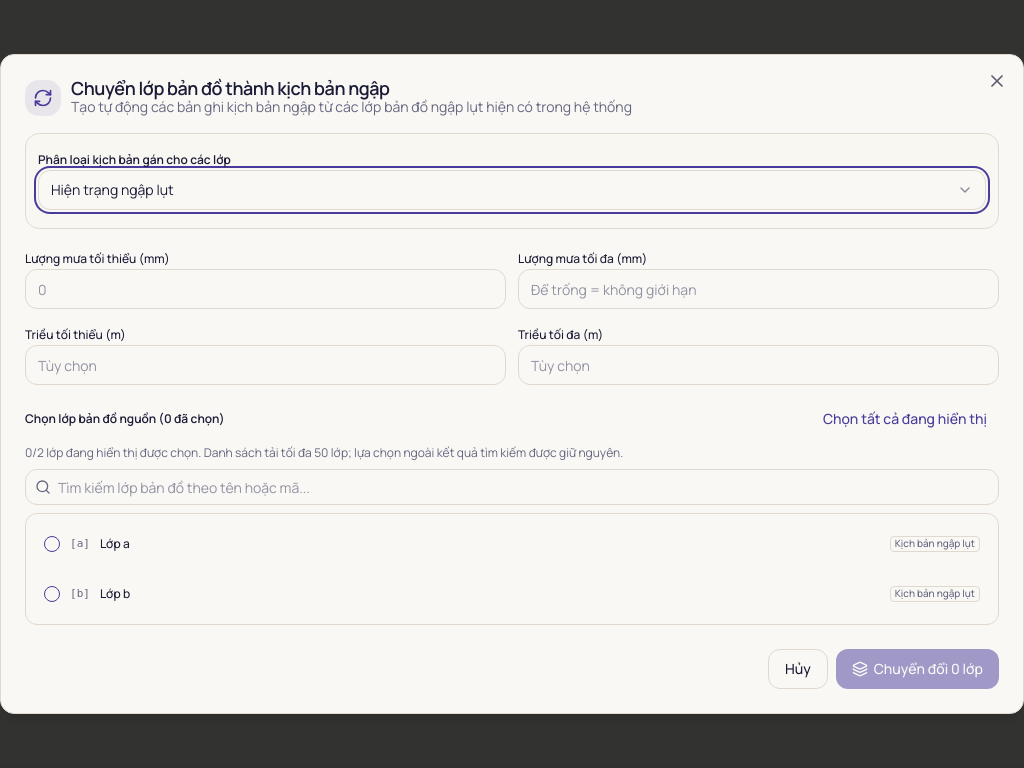
KttvConvertFromLayersDialog selection › toggles a layer once by label, checkbox and keyboard
The image size is (1024, 768).
Click the text "Lớp a" at point(115, 544), box [100,535,130,552]
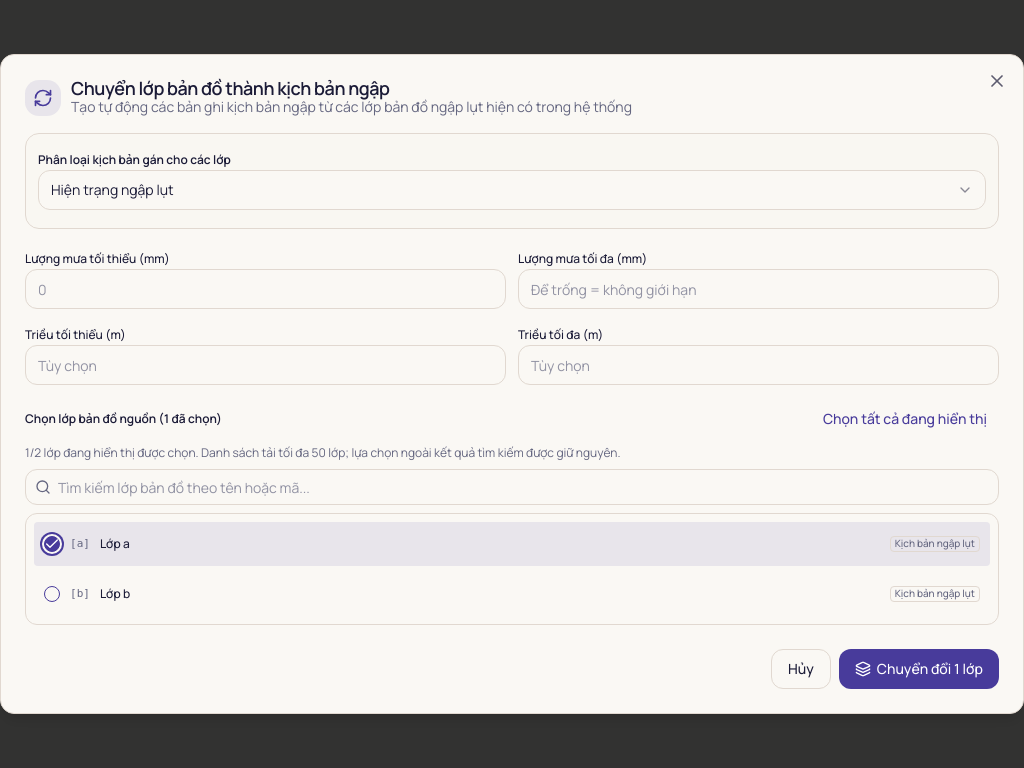
expect the checkbox named "Lớp a" in the row of "Lớp a" is checked: met
Click the checkbox named "Lớp a" in the row of "Lớp a" at point(52, 544), box [44,536,60,552]
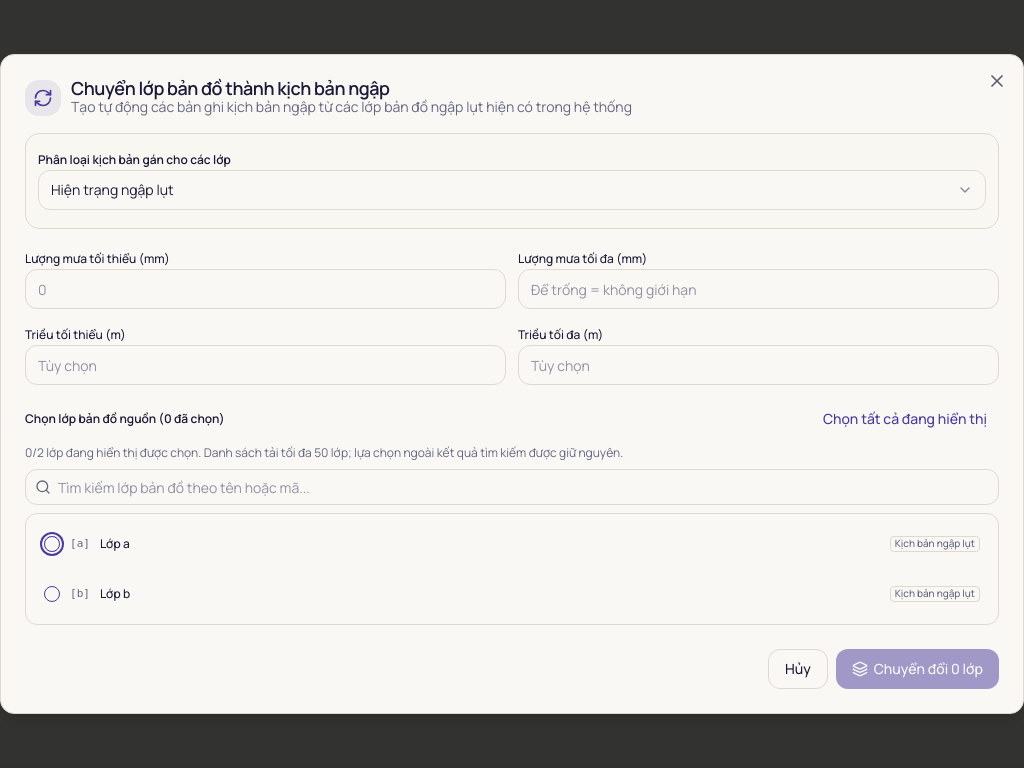
expect the checkbox named "Lớp a" in the row of "Lớp a" is not checked: met, box [44,536,60,552]
Type keys "[Space]"
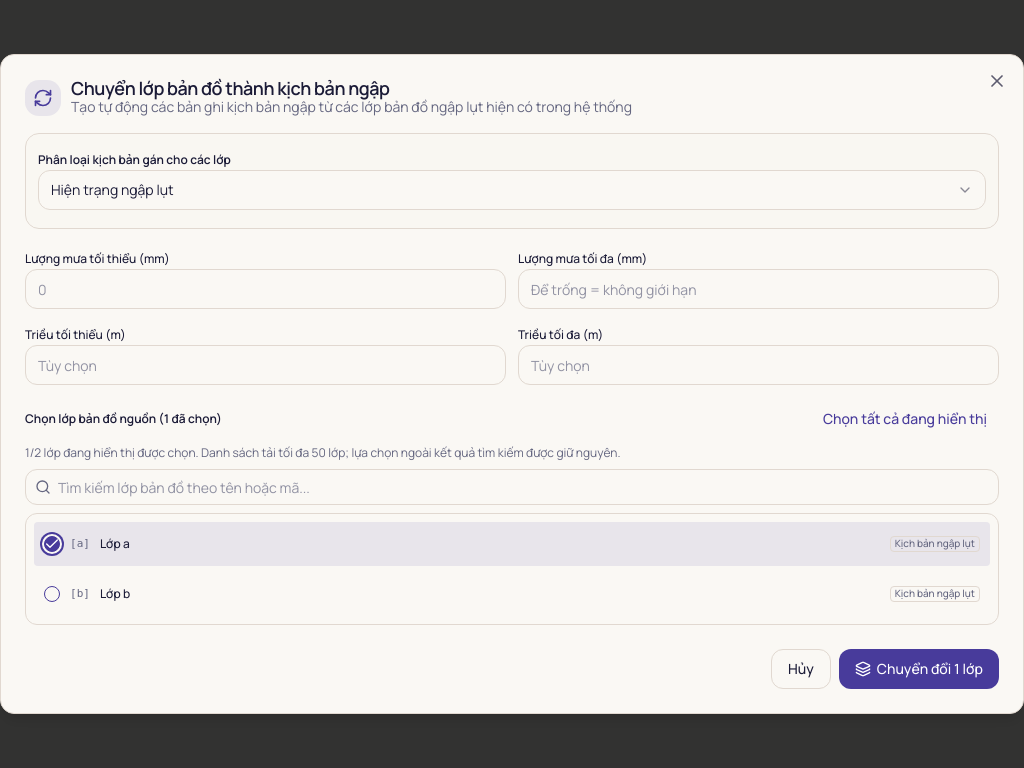
expect the checkbox named "Lớp a" in the row of "Lớp a" is checked: met, box [44,536,60,552]
expect the button "Chuyển đổi 1 lớp" is enabled: met, box [839,649,999,689]
